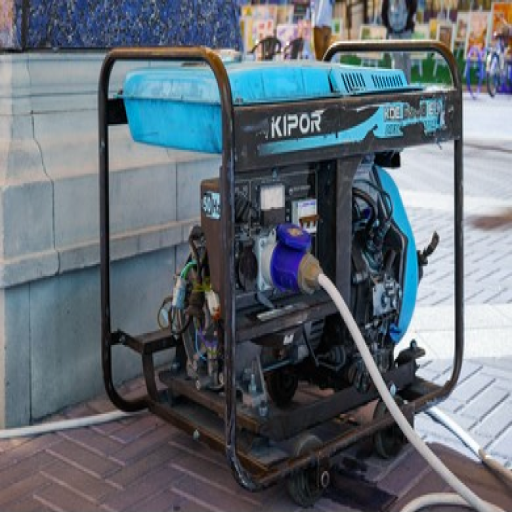portable_generator: (99, 43, 464, 487)
